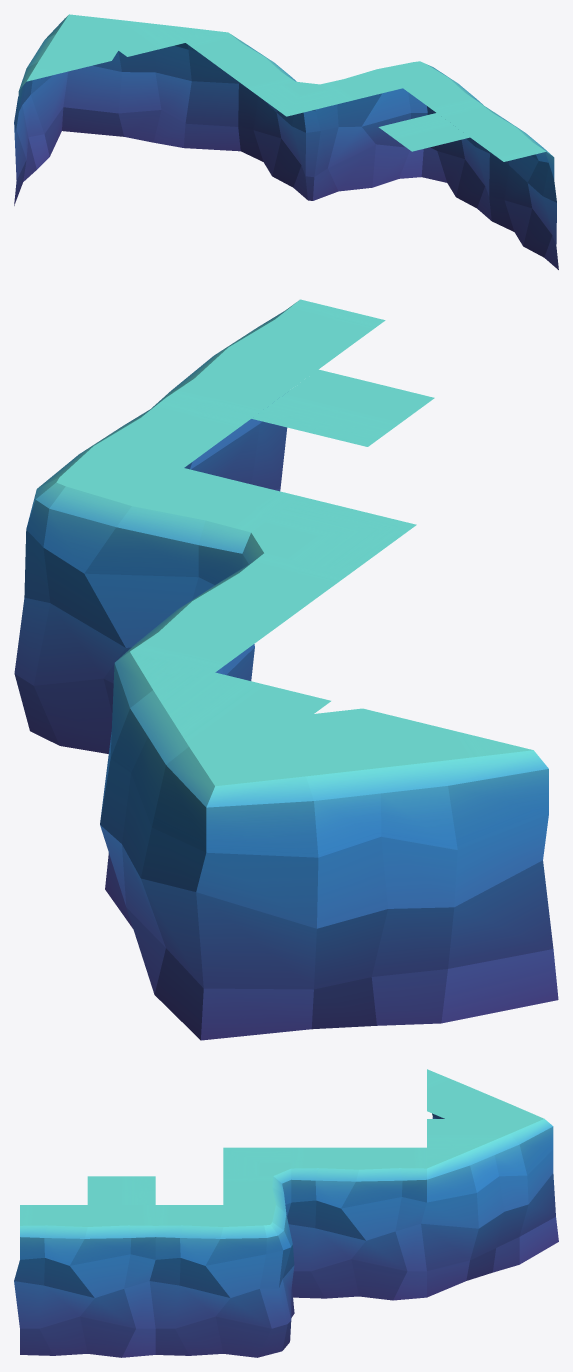
File: CornerTileTest.fbx
3 views of the same model, one above another, from view 1: azimuth 30°, elevation 25°; view 2: azimuth 150°, elevation 25°; view 3: azimuth 270°, elevation 25° (orthographic). The views are drawn at different scales.
Visible parts, largest first — view 1: Diagonal.002, Side.001, Diagonal.003, Side.017, DiagonalTop.003, DiagonalCornerTop.002, Side.002, Side.003, TopNoWalls.005, TopInnerCorner.002, SideSmallRight.001, OuterCorner.001 (+13 smaller); view 2: Diagonal.003, Side.001, Diagonal.002, DiagonalTop.003, DiagonalCornerTop.002, TopNoWalls.005, TopInnerCorner.002, TopSide.001, TopSide.003, TopSide.006, TopSide.002, TopSide.019 (+6 smaller); view 3: Diagonal.002, Side.017, Side.003, Side.002, SideSmallLeft.003, SideSmallLeft.010, SideSmallRight.010, SideSmallRight.002, SideSmallLeft.002, OuterCorner.001, DiagonalTop.003, DiagonalCornerTop.002 (+11 smaller).
Boxes of the visible parts, <box> form: Diagonal.002: <box>62,43,240,151</box>; Side.001: <box>328,88,410,191</box>; Diagonal.003: <box>14,15,68,205</box>; Side.017: <box>493,113,552,257</box>; DiagonalTop.003: <box>69,14,227,56</box>; DiagonalCornerTop.002: <box>26,14,118,81</box>; Side.002: <box>242,43,301,187</box>; Side.003: <box>426,64,484,208</box>; TopNoWalls.005: <box>378,113,469,151</box>; TopInnerCorner.002: <box>253,81,344,116</box>; SideSmallRight.001: <box>313,104,338,200</box>; OuterCorner.001: <box>399,92,446,182</box>; Diagonal.003: <box>196,750,558,1040</box>; Side.001: <box>34,486,205,753</box>; Diagonal.002: <box>100,652,214,1040</box>; DiagonalTop.003: <box>130,651,330,785</box>; DiagonalCornerTop.002: <box>215,708,533,786</box>; TopNoWalls.005: <box>251,369,434,446</box>; TopInnerCorner.002: <box>251,496,416,573</box>; TopSide.001: <box>132,468,299,532</box>; TopSide.003: <box>192,553,349,623</box>; TopSide.006: <box>94,398,250,467</box>; TopSide.002: <box>130,601,281,672</box>; TopSide.019: <box>228,299,385,369</box>; Diagonal.002: <box>421,1119,558,1297</box>; Side.017: <box>39,1225,135,1357</box>; Side.003: <box>175,1225,271,1357</box>; Side.002: <box>310,1168,407,1300</box>; SideSmallLeft.003: <box>149,1225,189,1355</box>; SideSmallLeft.010: <box>14,1225,53,1355</box>; SideSmallRight.010: <box>122,1225,155,1357</box>; SideSmallRight.002: <box>393,1168,426,1300</box>; SideSmallLeft.002: <box>287,1168,324,1298</box>; OuterCorner.001: <box>257,1222,291,1357</box>; DiagonalTop.003: <box>427,1119,543,1168</box>; DiagonalCornerTop.002: <box>427,1069,544,1118</box>.
Size of the model in its own units: 899 by 305 by 1205.
